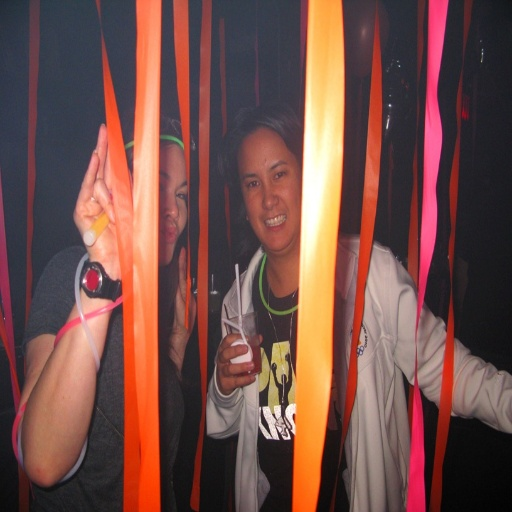hand: (65, 112, 134, 293), (214, 331, 264, 397), (173, 245, 197, 337)
